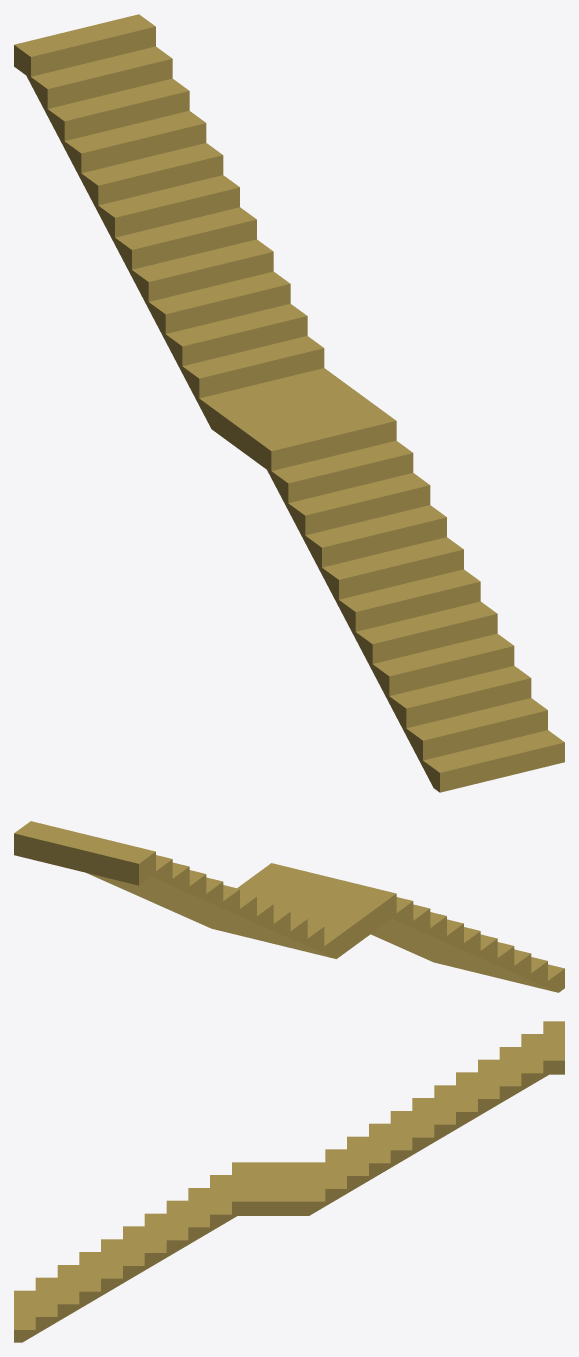
File: arch_stair_landing_f400.glb
3 renders of one model, top to bottom at view 1: azimuth 30°, elevation 25°; view 2: azimuth 150°, elevation 25°; view 3: azimuth 270°, elevation 25°, orthographic. The views are drawn at different scales.
Parts seen in each view (by area): view 1: Stair; view 2: Stair; view 3: Stair.
Part boxes in pixels (left/top/right/bottom): Stair: left=14, top=14, right=564, bottom=792; Stair: left=14, top=821, right=564, bottom=992; Stair: left=14, top=1021, right=564, bottom=1342.
Size of what is drawn, in the model's own units: 1.2 by 4 by 7.08.
